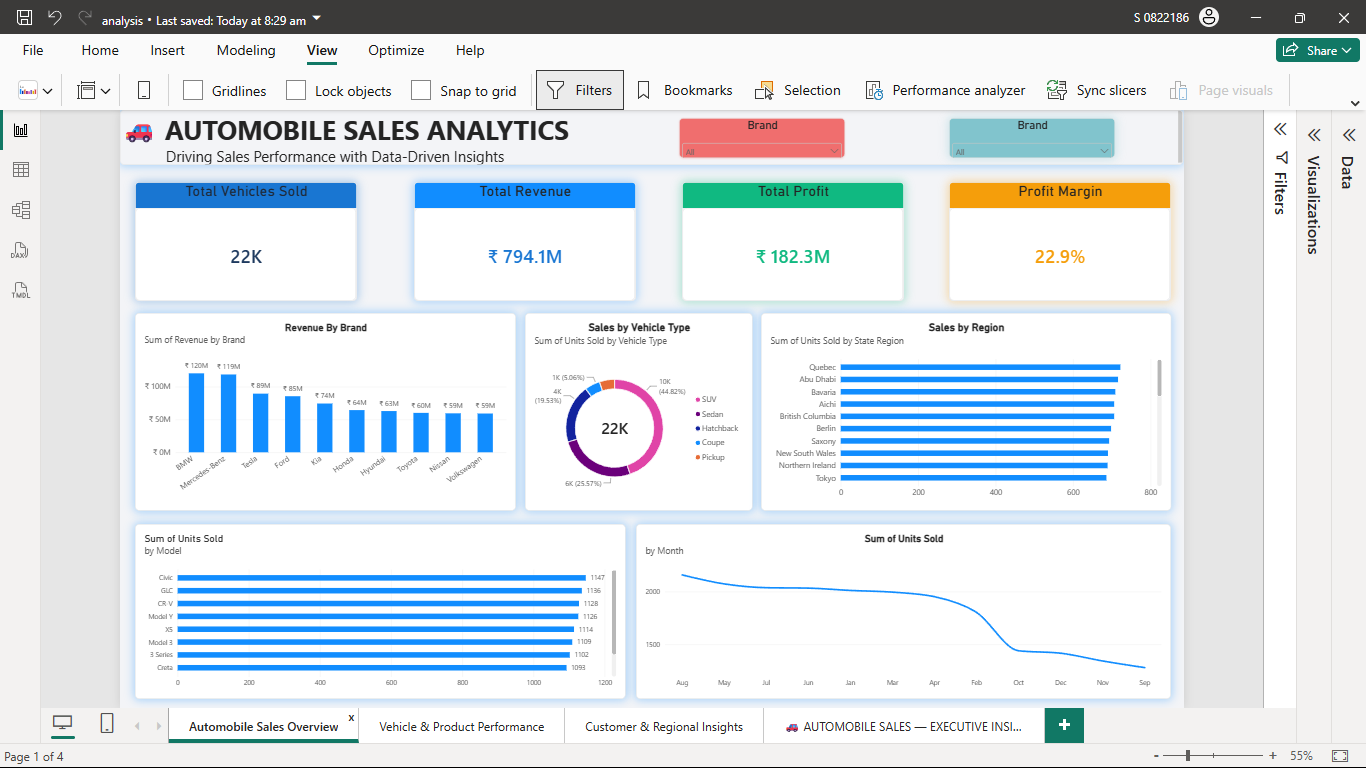

The page's visual inventory and layout, read from the dashboard file:
{"tool":"powerbi","page":{"name":"Automobile Sales Overview","canvas":[1920,1080],"ordinal":0},"visuals":[{"type":"textbox","box":[0,0,1920,99.2],"z":0},{"type":"cardVisual","title":"Total Vehicles Sold","fields":{"Data":["Sum(Automobile_Sales_Analytics_Dataset_15000_Rows.Units Sold)"]},"box":[27.4,130.8,400.9,215.2],"z":1000},{"type":"cardVisual","title":"Profit Margin","fields":{"Data":["Avg(Automobile_Sales_Analytics_Dataset_15000_Rows.Profit Margin)"]},"box":[1498,130.8,400.9,215.2],"z":2000},{"type":"cardVisual","title":"Total Profit","fields":{"Data":["Sum(Automobile_Sales_Analytics_Dataset_15000_Rows.Profit)"]},"box":[1014.9,130.8,400.9,215.2],"z":3000},{"type":"cardVisual","title":"Total Revenue","fields":{"Data":["Sum(Automobile_Sales_Analytics_Dataset_15000_Rows.Revenue)"]},"box":[531.7,130.8,400.9,215.2],"z":4000},{"type":"lineChart","fields":{"Category":["Automobile_Sales_Analytics_Dataset_15000_Rows.Month"],"Y":["Sum(Automobile_Sales_Analytics_Dataset_15000_Rows.Units Sold)"]},"box":[932.6,746.9,966.3,316.5],"z":5000},{"type":"clusteredColumnChart","title":"Revenue By Brand","fields":{"Category":["Automobile_Sales_Analytics_Dataset_15000_Rows.Brand"],"Y":["Sum(Automobile_Sales_Analytics_Dataset_15000_Rows.Revenue)"]},"box":[27.4,367.1,687.8,356.6],"z":6000},{"type":"donutChart","title":"Sales by Vehicle Type","fields":{"Category":["Automobile_Sales_Analytics_Dataset_15000_Rows.Vehicle Type"],"Y":["Sum(Automobile_Sales_Analytics_Dataset_15000_Rows.Units Sold)"]},"box":[732.1,367.1,411.4,356.6],"z":7000},{"type":"clusteredBarChart","title":"Sales by Region","fields":{"Category":["Automobile_Sales_Analytics_Dataset_15000_Rows.State Region"],"Y":["Sum(Automobile_Sales_Analytics_Dataset_15000_Rows.Units Sold)"]},"box":[1158.3,367.1,740.6,356.6],"z":8000},{"type":"clusteredBarChart","fields":{"Category":["Automobile_Sales_Analytics_Dataset_15000_Rows.Model"],"Y":["Sum(Automobile_Sales_Analytics_Dataset_15000_Rows.Units Sold)"]},"box":[27.4,746.9,886.2,316.5],"z":9000},{"type":"slicer","title":"Brand","fields":{"Values":["Automobile_Sales_Analytics_Dataset_15000_Rows.Brand"]},"box":[1009.1,13.8,299.6,71.7],"z":9001},{"type":"slicer","title":"Brand","fields":{"Values":["Automobile_Sales_Analytics_Dataset_15000_Rows.Gender"]},"box":[1497.8,13.8,299.6,71.7],"z":9002}]}

Visuals, with their boxes on the page's 1920x1080 design canvas (x1, y1, x2, y2). These are canvas units, not pixel positions in the 1366x768 screenshot, which may show the page scaled, cropped or inside an application window:
textbox: BBox(0, 0, 1920, 99)
"Total Vehicles Sold" cardVisual: BBox(27, 131, 428, 346)
"Profit Margin" cardVisual: BBox(1498, 131, 1899, 346)
"Total Profit" cardVisual: BBox(1015, 131, 1416, 346)
"Total Revenue" cardVisual: BBox(532, 131, 933, 346)
lineChart - Automobile_Sales_Analytics_Dataset_15000_Rows.Month x Sum(Automobile_Sales_Analytics_Dataset_15000_Rows.Units Sold): BBox(933, 747, 1899, 1063)
"Revenue By Brand" clusteredColumnChart: BBox(27, 367, 715, 724)
"Sales by Vehicle Type" donutChart: BBox(732, 367, 1144, 724)
"Sales by Region" clusteredBarChart: BBox(1158, 367, 1899, 724)
clusteredBarChart - Automobile_Sales_Analytics_Dataset_15000_Rows.Model x Sum(Automobile_Sales_Analytics_Dataset_15000_Rows.Units Sold): BBox(27, 747, 914, 1063)
"Brand" slicer: BBox(1009, 14, 1309, 86)
"Brand" slicer: BBox(1498, 14, 1797, 86)
